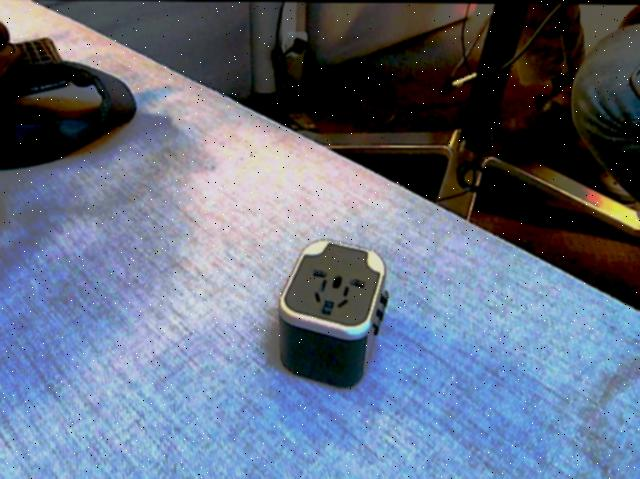adapter: (276, 236, 388, 388)
